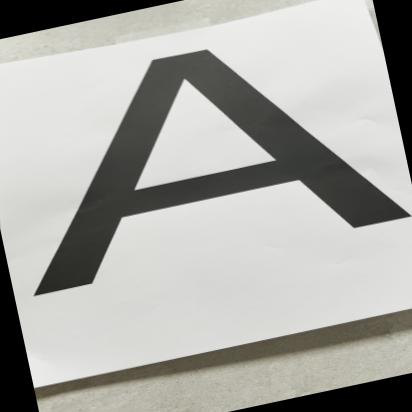seat: (3, 0, 412, 300)
